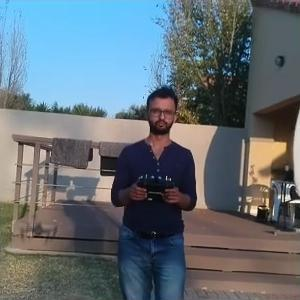follow: (106, 79, 201, 298)
